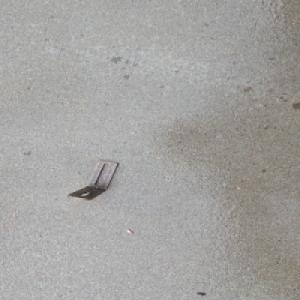MetalPart: (66, 159, 119, 199)
